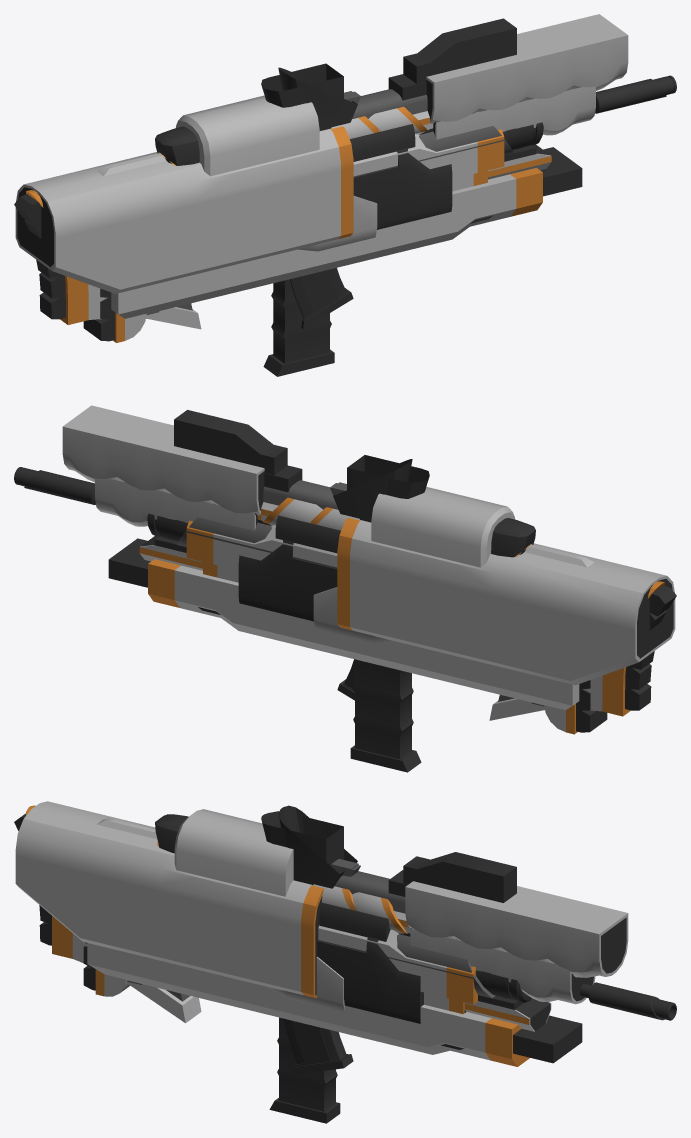
Rendered from gun-kit.glb.
3 renders of one model, top to bottom at view 1: azimuth 30°, elevation 25°; view 2: azimuth 150°, elevation 25°; view 3: azimuth 330°, elevation 25°, orthographic.
Visible parts, largest first — view 1: gun_body_grenade_2, gun_grip_grenade_2, gun_stock_grenade_2, gun_grip_smg_1, gun_body_smg_1, gun_stock_ar_1, gun_grip_ar_1, gun_magazine_smg_1, gun_body_ar_1, gun_magazine_ar, gun_barrel_grenade_1, gun_body_front_sniper_1 (+5 smaller); view 2: gun_body_grenade_2, gun_grip_grenade_2, gun_stock_grenade_2, gun_grip_smg_1, gun_magazine_smg_1, gun_body_smg_1, gun_stock_ar_1, gun_grip_ar_1, gun_body_ar_1, gun_barrel_grenade_1, gun_body_front_sniper_1, gun_barrel_sniper_1 (+4 smaller); view 3: gun_body_grenade_2, gun_grip_grenade_2, gun_stock_grenade_2, gun_grip_smg_1, gun_body_smg_1, gun_grip_ar_1, gun_body_ar_1, gun_magazine_smg_1, gun_stock_ar_1, gun_body_front_sniper_1, gun_magazine_ar, gun_barrel_grenade_1 (+6 smaller).
Boxes of the visible parts, x1,y1,x2,y2 form: gun_body_grenade_2: [15, 126, 542, 318]; gun_grip_grenade_2: [278, 14, 628, 130]; gun_stock_grenade_2: [155, 95, 377, 251]; gun_grip_smg_1: [261, 18, 516, 107]; gun_body_smg_1: [353, 148, 452, 229]; gun_stock_ar_1: [14, 190, 201, 329]; gun_grip_ar_1: [433, 87, 595, 139]; gun_magazine_smg_1: [263, 279, 334, 376]; gun_body_ar_1: [350, 124, 582, 223]; gun_magazine_ar: [290, 268, 353, 329]; gun_barrel_grenade_1: [353, 122, 543, 177]; gun_body_front_sniper_1: [97, 111, 551, 179]; gun_body_grenade_2: [148, 517, 675, 710]; gun_grip_grenade_2: [62, 405, 412, 522]; gun_stock_grenade_2: [313, 487, 535, 642]; gun_grip_smg_1: [174, 410, 429, 498]; gun_magazine_smg_1: [350, 659, 421, 772]; gun_body_smg_1: [238, 539, 337, 621]; gun_stock_ar_1: [489, 581, 676, 720]; gun_grip_ar_1: [95, 478, 257, 530]; gun_body_ar_1: [108, 515, 340, 614]; gun_barrel_grenade_1: [147, 513, 337, 568]; gun_body_front_sniper_1: [139, 502, 594, 570]; gun_barrel_sniper_1: [14, 467, 95, 504]; gun_body_grenade_2: [15, 801, 529, 1066]; gun_grip_grenade_2: [278, 805, 628, 977]; gun_stock_grenade_2: [155, 809, 344, 1012]; gun_grip_smg_1: [261, 811, 516, 902]; gun_body_smg_1: [317, 937, 423, 1023]; gun_grip_ar_1: [410, 928, 595, 1004]; gun_body_ar_1: [319, 902, 582, 1063]; gun_magazine_smg_1: [269, 1017, 340, 1123]; gun_stock_ar_1: [14, 805, 201, 1023]; gun_body_front_sniper_1: [96, 818, 551, 1031]; gun_magazine_ar: [284, 1018, 353, 1074]; gun_barrel_grenade_1: [318, 934, 531, 1002].
Bounding box in the file's own units: 1.77 × 0.7801 × 0.1875.
